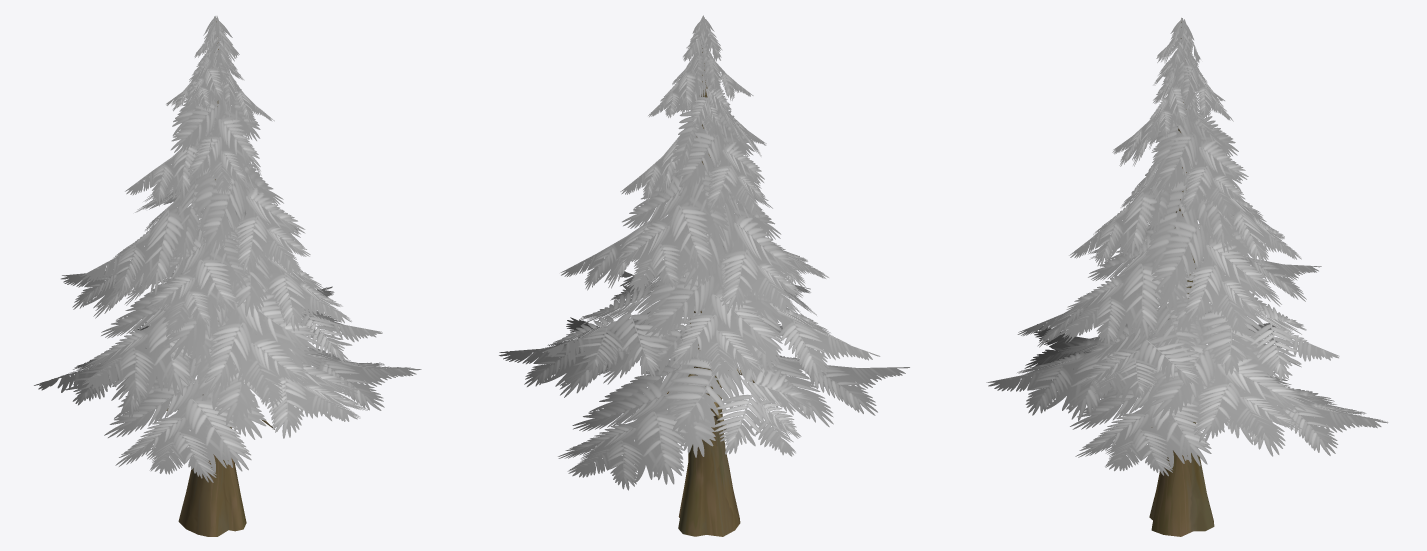
File: m_env_collect_tree_cedar_01.fbx
The picture shows the model from 3 angles, left to right: view 1: azimuth 30°, elevation 25°; view 2: azimuth 150°, elevation 25°; view 3: azimuth 270°, elevation 25°; orthographic projection.
Parts seen in each view (by area): view 1: m_env_collect_tree_cedar_01; view 2: m_env_collect_tree_cedar_01; view 3: m_env_collect_tree_cedar_01.
Boxes of the visible parts, x1,y1,x2,y2 form: m_env_collect_tree_cedar_01: (34, 16, 421, 536); m_env_collect_tree_cedar_01: (499, 15, 909, 536); m_env_collect_tree_cedar_01: (986, 17, 1388, 536).
Bounding box in the file's own units: 707 × 945 × 759.
